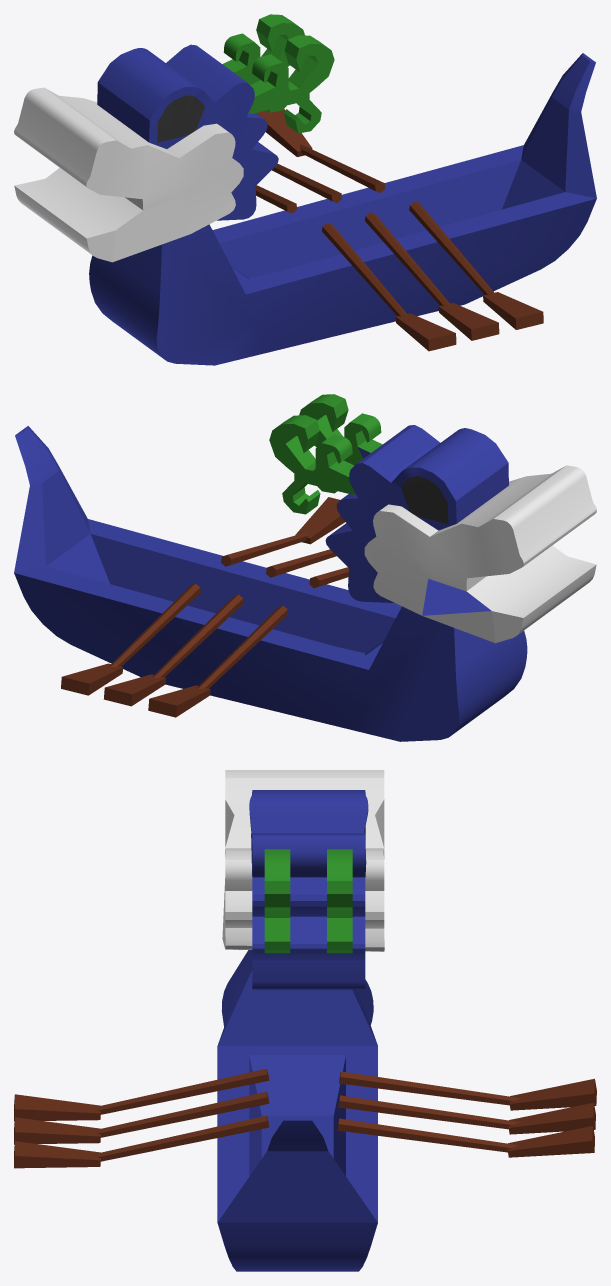
File: DrakkarCOLORED_BLUE_Anim.fbx
The picture shows the model from 3 angles, top to bottom: view 1: azimuth 30°, elevation 25°; view 2: azimuth 150°, elevation 25°; view 3: azimuth 270°, elevation 25°; orthographic projection. The views are drawn at different scales.
Parts seen in each view (by area): view 1: Cube, Wioslo 1; view 2: Cube, Wioslo 1; view 3: Cube, Wioslo 1.
Part boxes in pixels (x1=…): Cube: x1=14, y1=14, x2=596, y2=365; Wioslo 1: x1=255, y1=109, x2=543, y2=351; Cube: x1=14, y1=394, x2=596, y2=741; Wioslo 1: x1=61, y1=497, x2=348, y2=717; Cube: x1=217, y1=770, x2=384, y2=1271; Wioslo 1: x1=14, y1=1069, x2=596, y2=1168.
Size of the model in its own units: 90.8 by 47.32 by 77.82.
